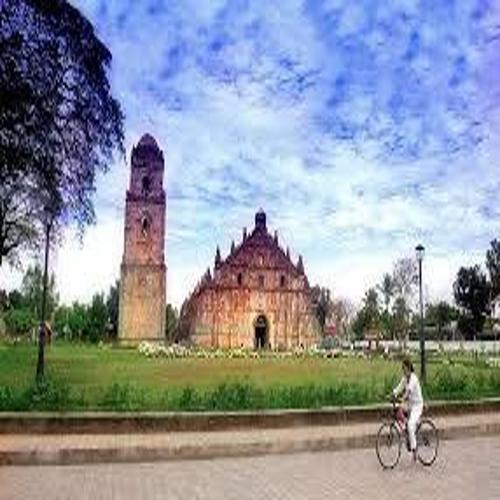Paoay Church: (115, 126, 365, 363)
